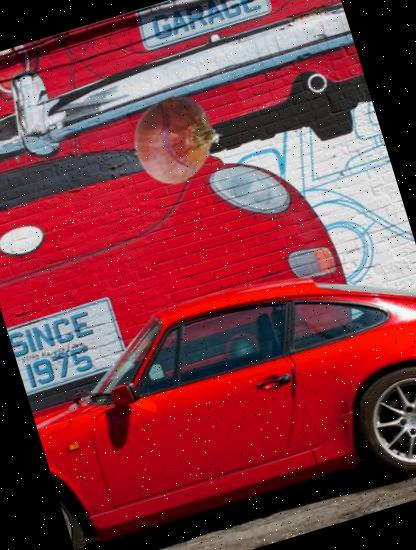Onion: (121, 81, 235, 195)
